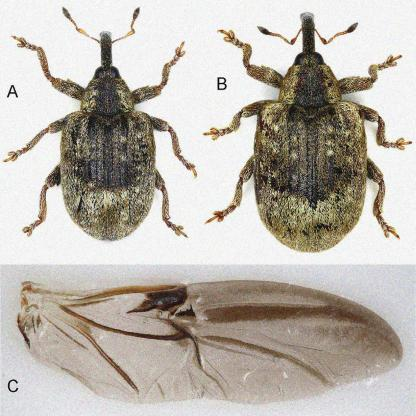ash weevil: (210, 15, 407, 254), (4, 32, 196, 239)
